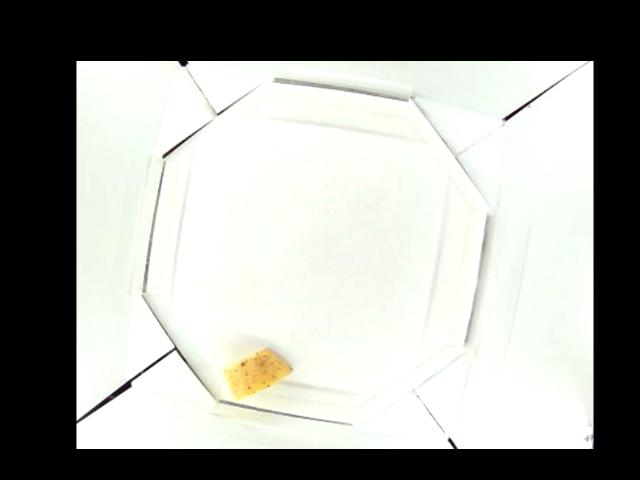Potato: (221, 346, 292, 400)
